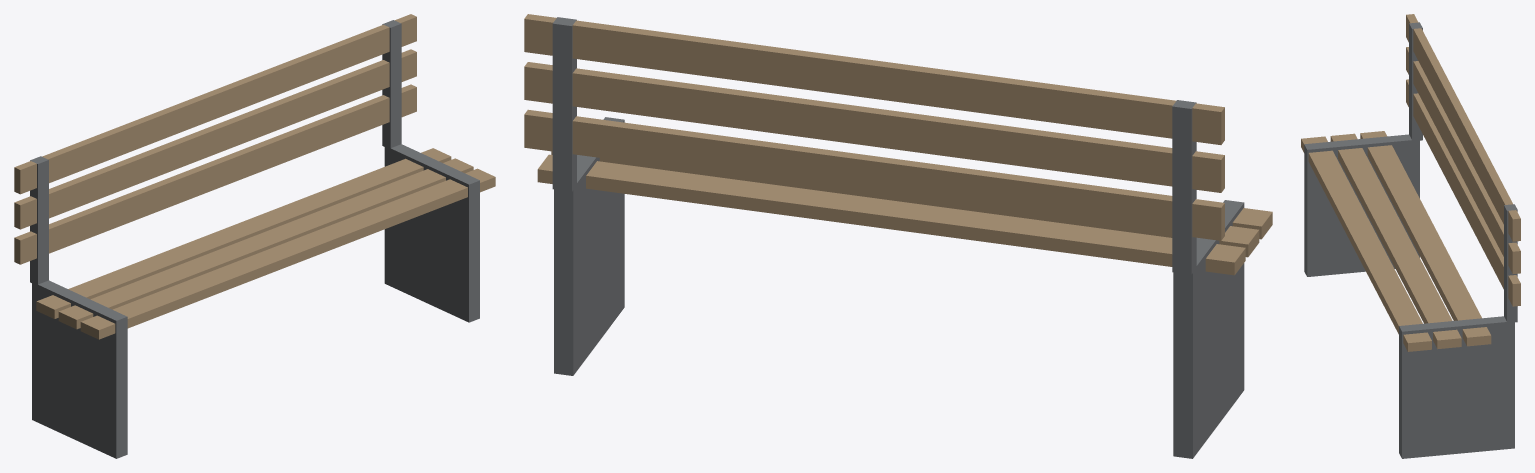
The model's file is claude-bench.glb.
3 renders of one model, left to right at view 1: azimuth 30°, elevation 25°; view 2: azimuth 150°, elevation 25°; view 3: azimuth 270°, elevation 25°, orthographic. The views are drawn at different scales.
Visible parts, largest first — view 1: F60_Bench_265_End-0.8, F60_Bench_265_BackSlat2, F60_Bench_265_BackSlat1, F60_Bench_265_BackSlat0, F60_Bench_265_End+0.8, F60_Bench_265_Slat0, F60_Bench_265_Slat1, F60_Bench_265_Slat2, F60_Bench_265_EndBack+0.8, F60_Bench_265_EndBack-0.8; view 2: F60_Bench_265_BackSlat2, F60_Bench_265_BackSlat1, F60_Bench_265_BackSlat0, F60_Bench_265_Slat2, F60_Bench_265_End-0.8, F60_Bench_265_End+0.8, F60_Bench_265_EndBack+0.8, F60_Bench_265_EndBack-0.8, F60_Bench_265_Slat1, F60_Bench_265_Slat0; view 3: F60_Bench_265_End+0.8, F60_Bench_265_End-0.8, F60_Bench_265_Slat0, F60_Bench_265_Slat2, F60_Bench_265_Slat1, F60_Bench_265_BackSlat2, F60_Bench_265_BackSlat0, F60_Bench_265_BackSlat1, F60_Bench_265_EndBack+0.8, F60_Bench_265_EndBack-0.8.
Part boxes in pixels (x1,y1,x2,y2): F60_Bench_265_End-0.8: (32,280,127,458); F60_Bench_265_BackSlat2: (14,14,416,194); F60_Bench_265_BackSlat1: (14,49,416,229); F60_Bench_265_BackSlat0: (14,84,416,264); F60_Bench_265_End+0.8: (384,144,479,322); F60_Bench_265_Slat0: (80,168,495,339); F60_Bench_265_Slat1: (58,158,473,329); F60_Bench_265_Slat2: (36,148,451,318); F60_Bench_265_EndBack+0.8: (382,20,401,149); F60_Bench_265_EndBack-0.8: (30,156,48,285); F60_Bench_265_BackSlat2: (524,14,1224,144); F60_Bench_265_BackSlat1: (524,62,1224,192); F60_Bench_265_BackSlat0: (524,109,1224,240); F60_Bench_265_Slat2: (537,154,1245,275); F60_Bench_265_End-0.8: (1173,200,1244,458); F60_Bench_265_End+0.8: (554,117,624,375); F60_Bench_265_EndBack+0.8: (552,17,576,191); F60_Bench_265_EndBack-0.8: (1172,100,1196,274); F60_Bench_265_Slat1: (551,151,1259,257); F60_Bench_265_Slat0: (1232,208,1272,239); F60_Bench_265_End+0.8: (1399,316,1514,458); F60_Bench_265_End-0.8: (1304,134,1419,276); F60_Bench_265_Slat0: (1301,136,1431,351); F60_Bench_265_Slat2: (1360,131,1491,346); F60_Bench_265_Slat1: (1330,133,1461,349); F60_Bench_265_BackSlat2: (1406,14,1520,241); F60_Bench_265_BackSlat0: (1406,79,1520,306); F60_Bench_265_BackSlat1: (1406,47,1520,273); F60_Bench_265_EndBack+0.8: (1504,204,1517,322); F60_Bench_265_EndBack-0.8: (1409,22,1422,140).
Bounding box in the file's own units: 1.85 × 0.955 × 0.7979.
